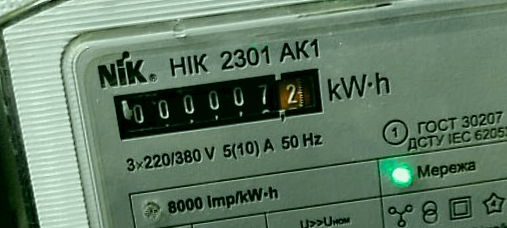0: (130, 100, 147, 126), (206, 88, 223, 112), (181, 92, 197, 116), (230, 84, 246, 108), (156, 97, 171, 121)
2: (284, 81, 299, 106)
7: (256, 81, 271, 106)
screen: (101, 57, 335, 150)
